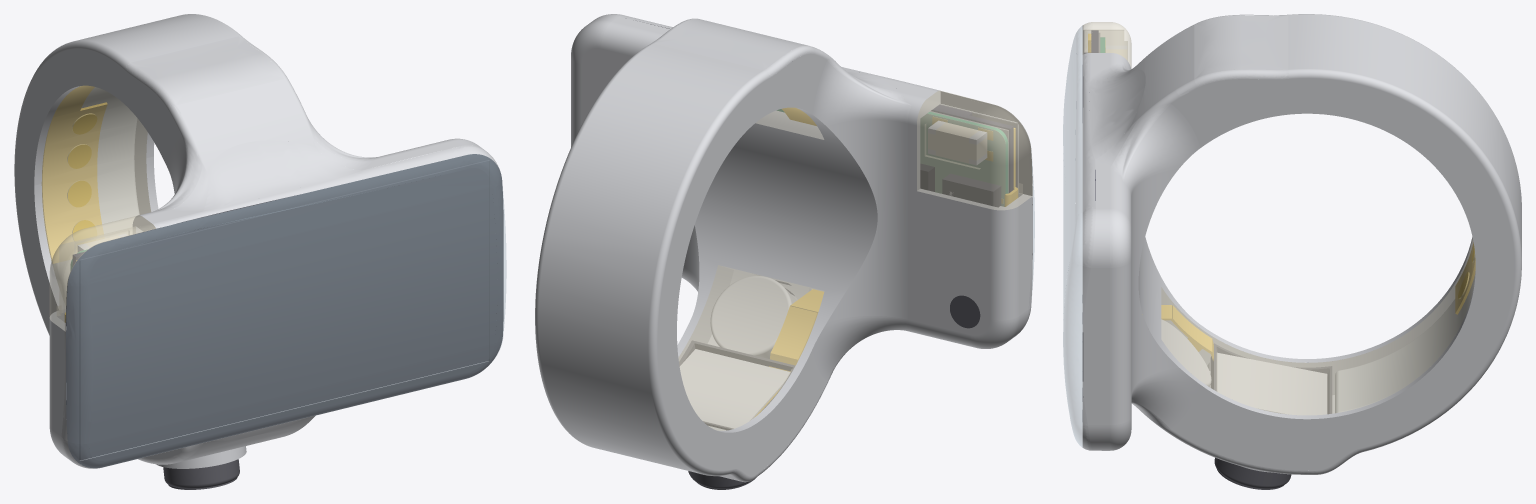
The model's file is thin-inside.glb.
3 views of the same model, side by side, from view 1: azimuth 30°, elevation 25°; view 2: azimuth 150°, elevation 25°; view 3: azimuth 270°, elevation 25° (orthographic). The views are drawn at different scales.
Visible parts, largest first — view 1: cover_glass__glass, clear_adhesive__polymer, outer_body__metal, glass_seal__polymer, band_liner__resin, band_flex_away__flex, cell__cell, radio_corner__resin, joystick_cap__polymer, joystick_frame__metal, pad_D+__gold; view 2: outer_body__metal, band_liner__resin, radio_corner__resin, band_flex_thumb__metal, vibration_motor__metal, main_board__pcb, main_board__resin, band_flex_thumb__flex, glass_seal__polymer, antenna__ceramic, screen_connector__polymer, joystick_dam__polymer (+3 smaller); view 3: outer_body__metal, band_liner__resin, cover_glass__glass, cell__cell, band_flex_thumb__metal, radio_corner__resin, vibration_motor__metal, joystick_cap__polymer, band_flex_thumb__flex, joystick_dam__polymer, band_flex_away__flex.
Boxes of the visible parts, x1,y1,x2,y2 form: cover_glass__glass: (66,154,506,467); clear_adhesive__polymer: (79,160,489,460); outer_body__metal: (14,14,503,468); glass_seal__polymer: (65,154,503,468); band_liner__resin: (41,85,150,286); band_flex_away__flex: (41,85,107,263); cell__cell: (53,87,139,284); radio_corner__resin: (49,215,155,331); joystick_cap__polymer: (163,459,239,489); joystick_frame__metal: (156,446,246,468); pad_D+__gold: (67,180,91,207); outer_body__metal: (535,14,1032,482); band_liner__resin: (678,107,824,430); radio_corner__resin: (917,90,1032,210); band_flex_thumb__metal: (679,349,789,428); vibration_motor__metal: (710,275,796,358); main_board__pcb: (921,112,1008,205); main_board__resin: (920,114,1005,206); band_flex_thumb__flex: (754,289,823,417); glass_seal__polymer: (650,24,1032,254); antenna__ceramic: (928,122,987,163); screen_connector__polymer: (942,173,1001,207); joystick_dam__polymer: (679,340,795,430); outer_body__metal: (1082,14,1521,474); band_liner__resin: (1161,239,1475,415); cover_glass__glass: (1063,26,1082,447); cell__cell: (1258,79,1475,413); band_flex_thumb__metal: (1217,353,1327,415); radio_corner__resin: (1082,22,1131,68); vibration_motor__metal: (1161,319,1211,386); joystick_cap__polymer: (1214,457,1291,489); band_flex_thumb__flex: (1161,305,1213,360); joystick_dam__polymer: (1210,343,1332,414); band_flex_away__flex: (1455,242,1475,314).
Size of the model in its own units: 29.3 by 27.2 by 25.8.
